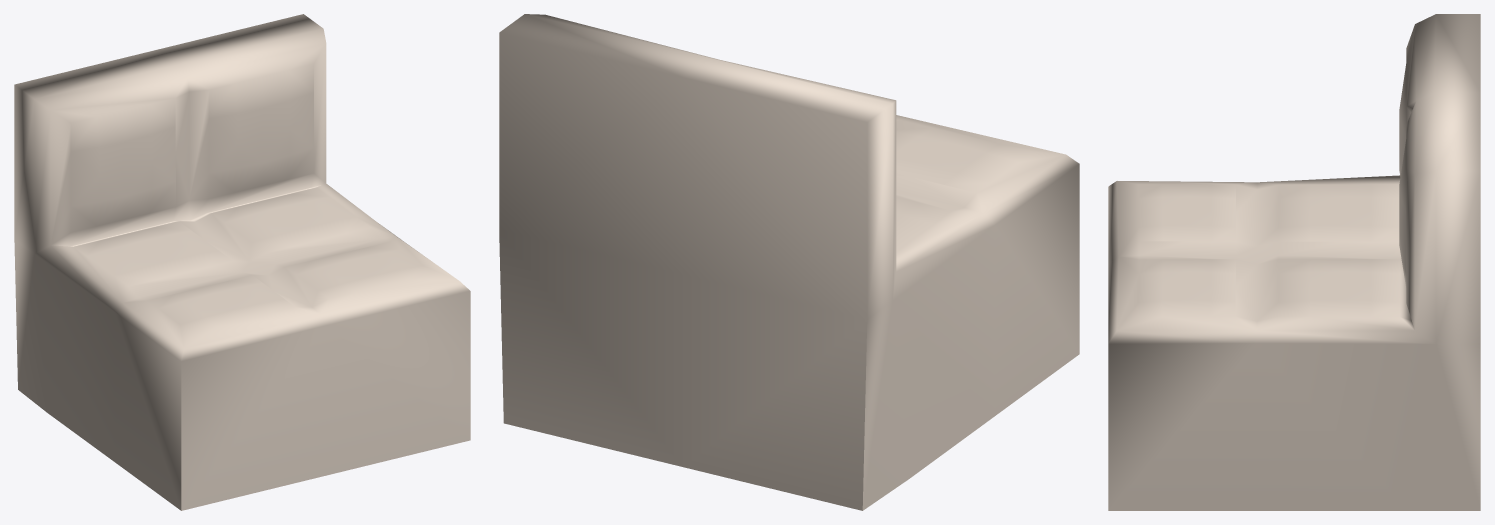
File: Cadepuff.fbx
3 views of the same model, side by side, from view 1: azimuth 30°, elevation 25°; view 2: azimuth 150°, elevation 25°; view 3: azimuth 270°, elevation 25° (orthographic). The views are drawn at different scales.
Visible parts, largest first — view 1: Sofa4; view 2: Sofa4; view 3: Sofa4.
Part boxes in pixels (x1,y1,x2,y2): Sofa4: (14,14,470,510); Sofa4: (499,14,1079,510); Sofa4: (1108,14,1480,510).
Size of the model in its own units: 10 by 10.11 by 10.
